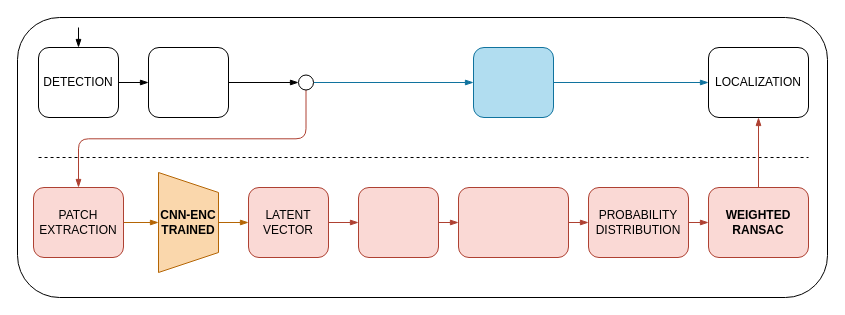
The diagram is 845 pixels wide and 315 high, and some of its shapes have lost their labels. The shapes that lost their labels are listed below. From the top down, each one's centre as x and y in pixels, then its label:
At pixel 188 82: "MATCHING".
At pixel 513 82: "RANSAC".
At pixel 398 222: "SEMANTIC SCORE".
At pixel 513 222: "NORMALIZATION".
